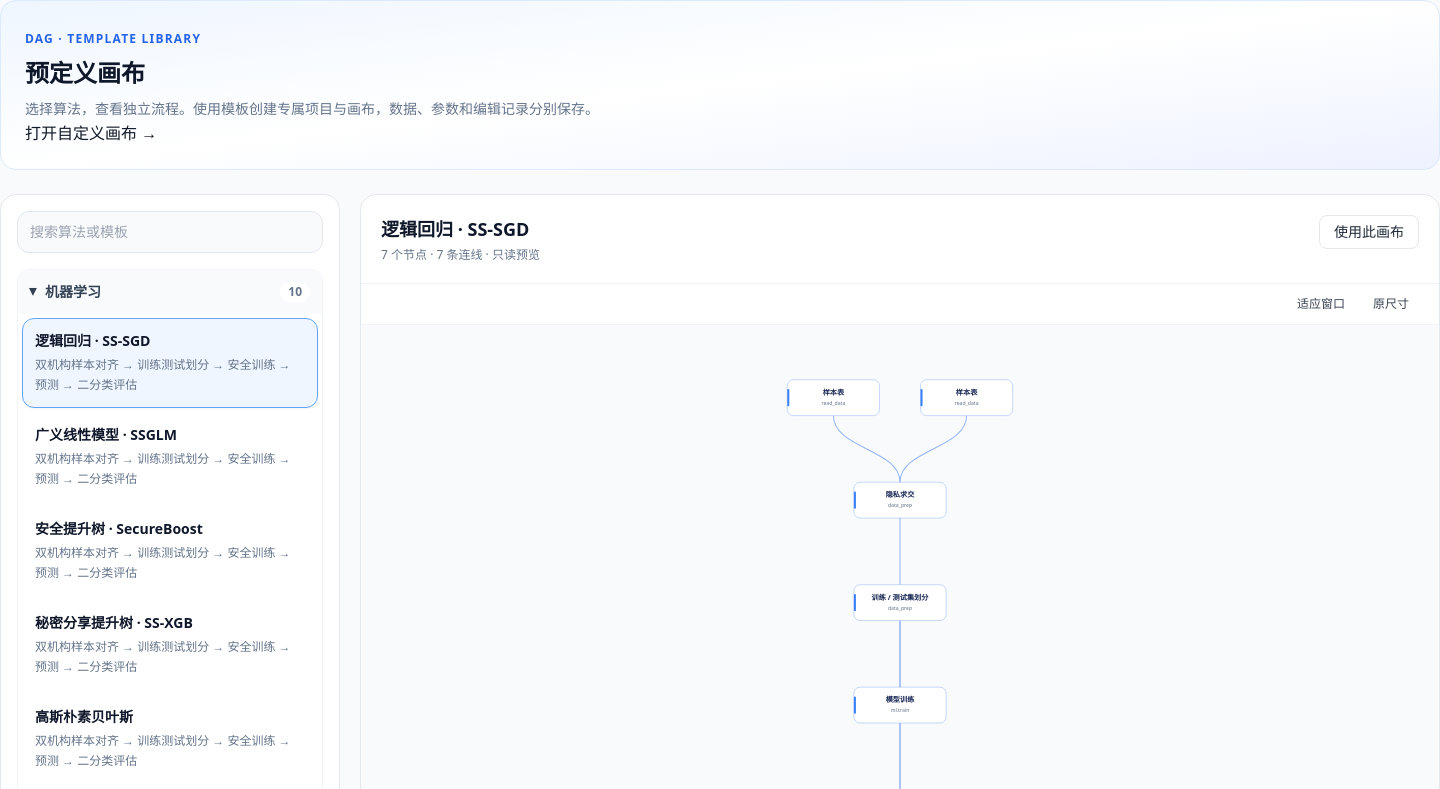
Test case: groups templates and folds a category without losing the selected preview
The width and height of the screenshot is (1440, 789).
Click the button "▸ 机器学习 10": (73, 292) x1=18 y1=270 x2=322 y2=314
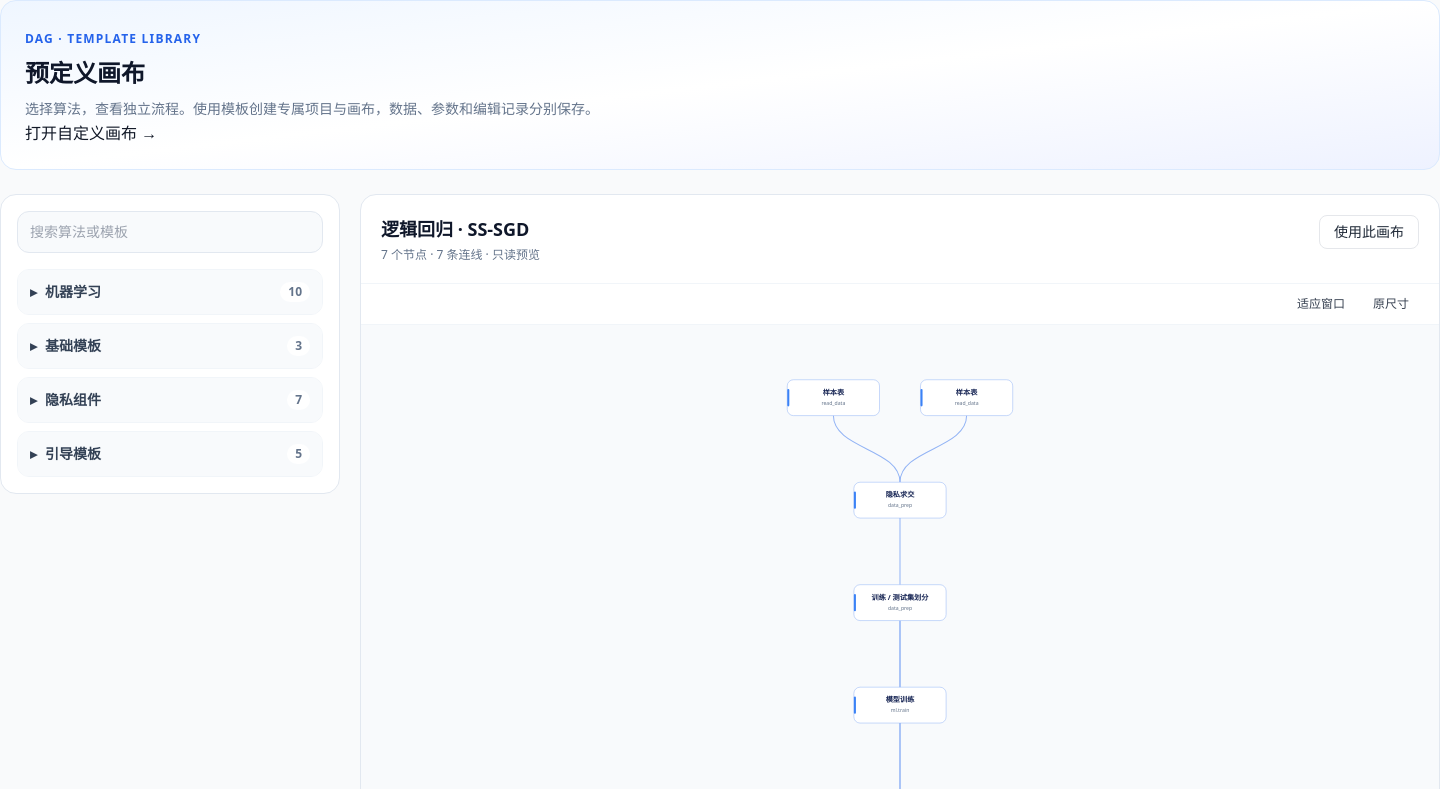
Check: the button "KMeans" is not shown
Click the button "▸ 机器学习 10": (73, 292) x1=18 y1=270 x2=322 y2=314
(page scrolled)
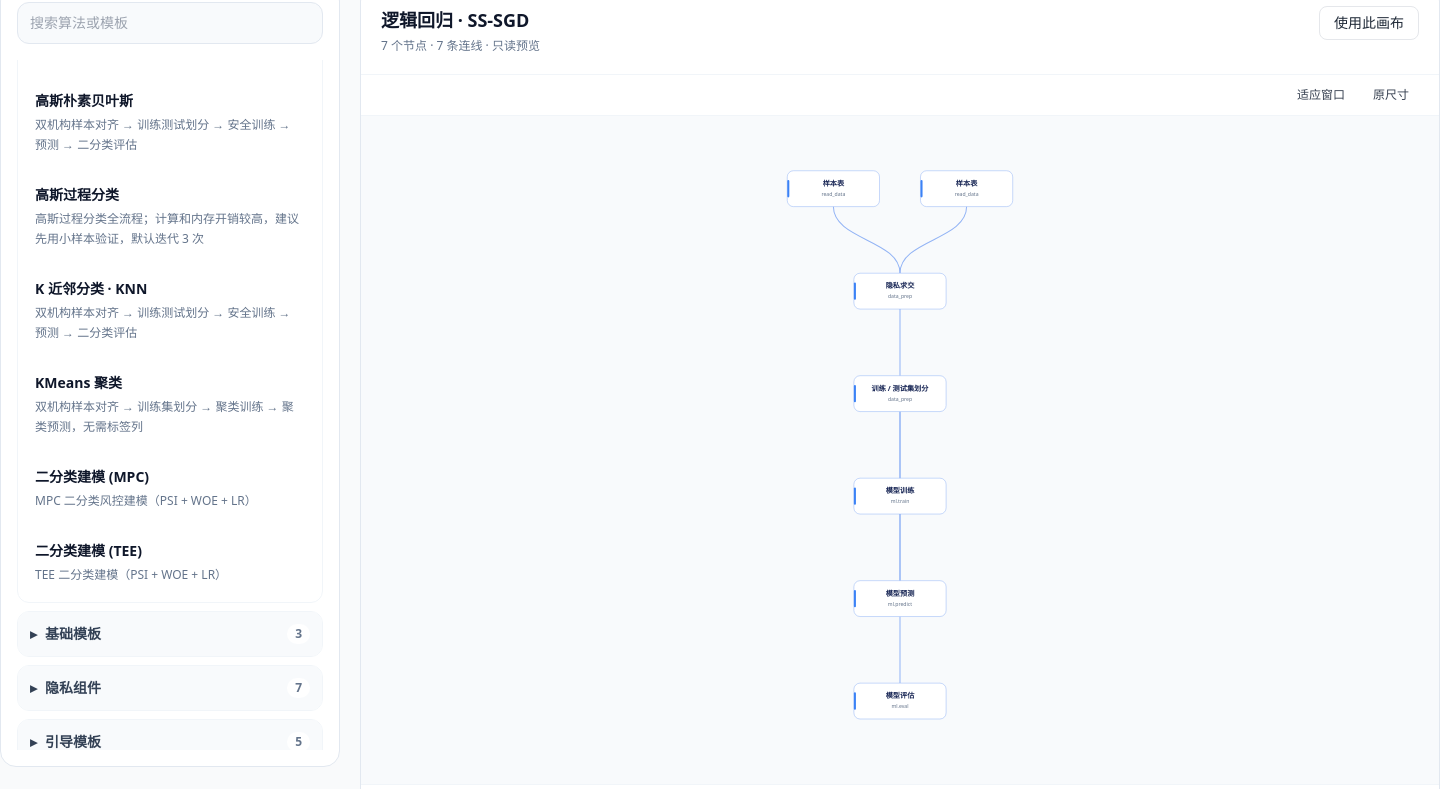
Check: the button "KMeans 聚类 双机构样本对齐 → 训练集划分 → 聚类训练 → 聚类预测，无需标签列" is shown, box x1=22 y1=360 x2=318 y2=450
